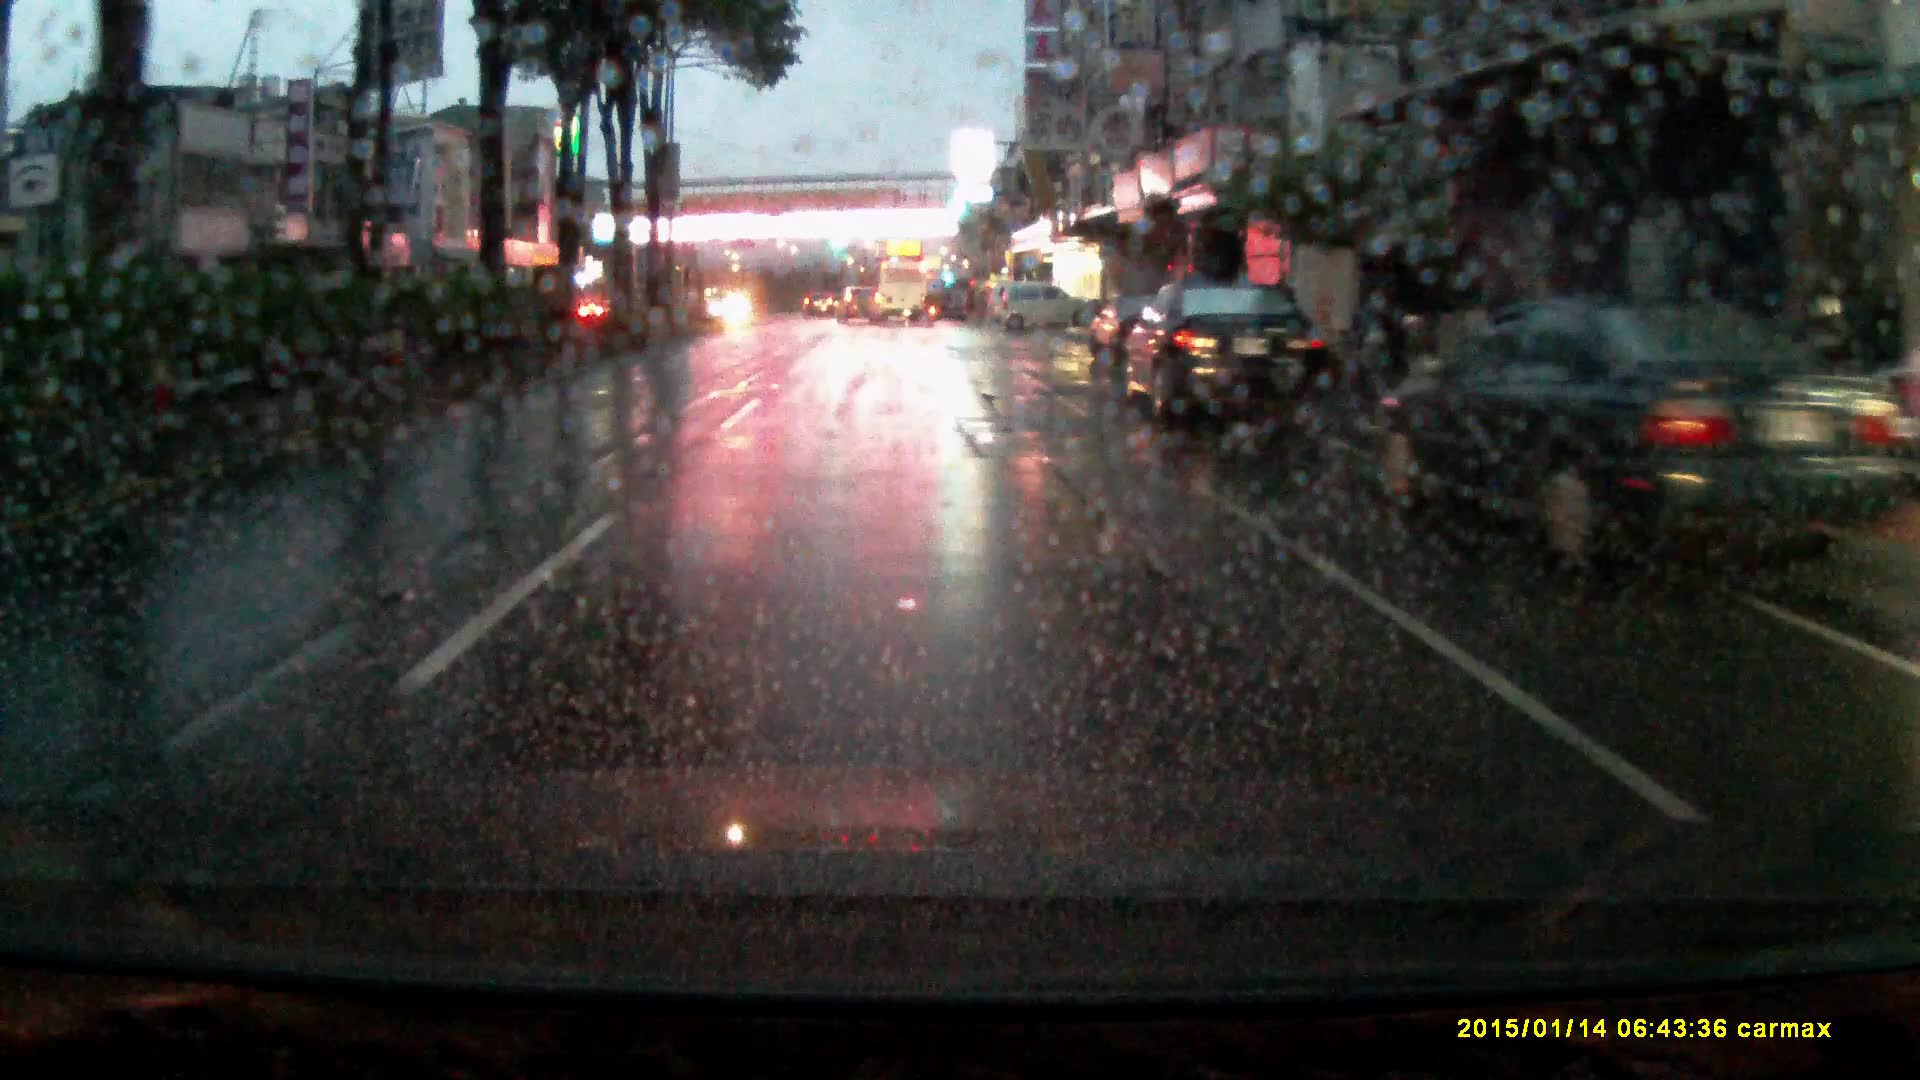vehicle: (1394, 305, 1841, 618), (1124, 285, 1323, 444), (1087, 295, 1159, 375), (1000, 286, 1089, 338), (861, 264, 930, 327), (835, 293, 884, 335), (802, 297, 836, 328)
